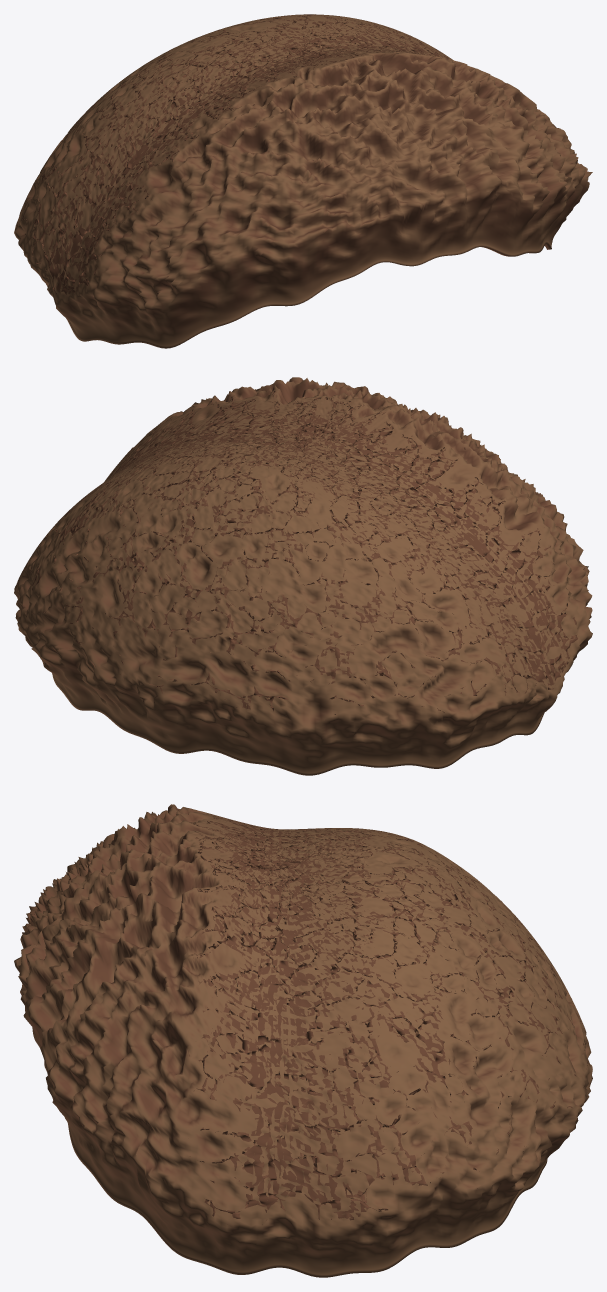
Rendered from Highlights-03ca3a563e69252-hair.glb.
3 views of the same model, one above another, from view 1: azimuth 30°, elevation 25°; view 2: azimuth 150°, elevation 25°; view 3: azimuth 270°, elevation 25° (orthographic). The views are drawn at different scales.
Visible parts, largest first — view 1: 226 hair / Hair252 / dense natural coil groups.001; view 2: 226 hair / Hair252 / dense natural coil groups.001; view 3: 226 hair / Hair252 / dense natural coil groups.001.
Boxes of the visible parts, x1,y1,x2,y2 form: 226 hair / Hair252 / dense natural coil groups.001: (14,14,592,348); 226 hair / Hair252 / dense natural coil groups.001: (14,377,592,775); 226 hair / Hair252 / dense natural coil groups.001: (14,804,592,1277).
Bounding box in the file's own units: 1.06 × 0.5107 × 0.8736.
1 material, 1 textured.
